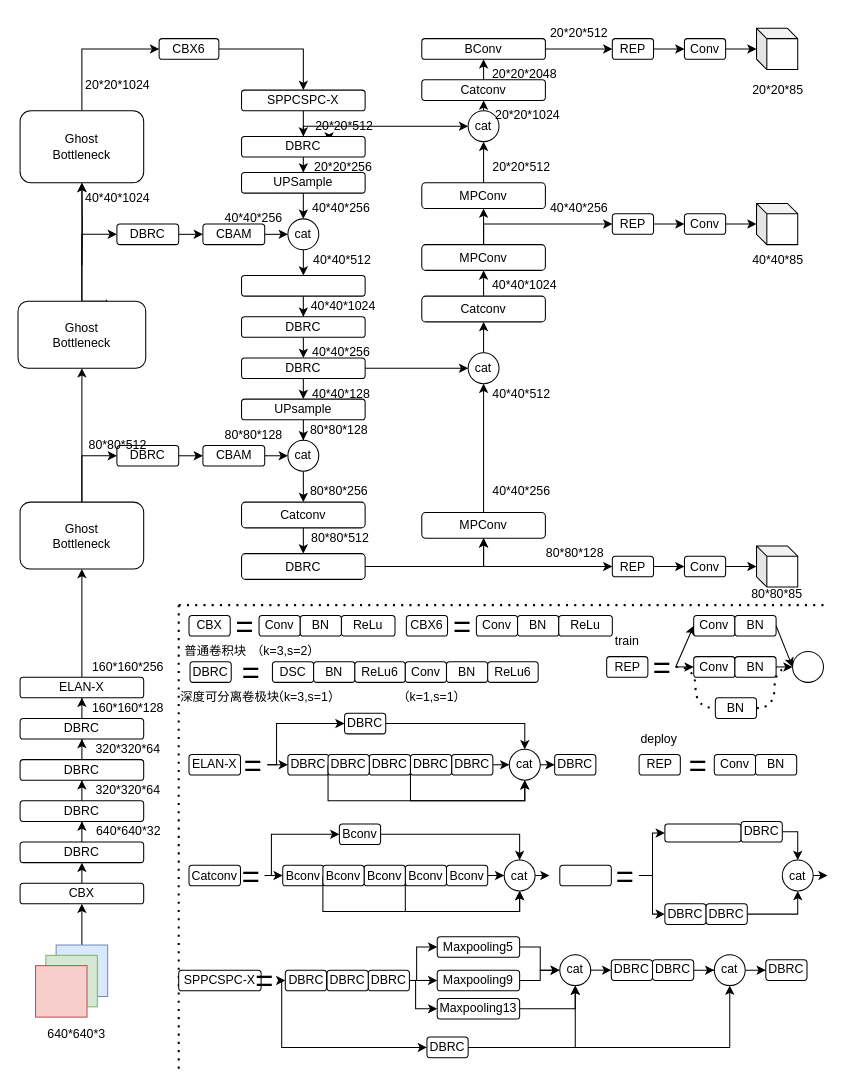
The diagram is 854 pixels wide and 1088 high, and some of its shapes have lost their labels. Each missing label, with the centre of its shape:
"add" belongs at (807,666).
"Cconv" belongs at (303,285).
"Maxpooling" belongs at (702,832).
"MP-X" belongs at (585,875).
